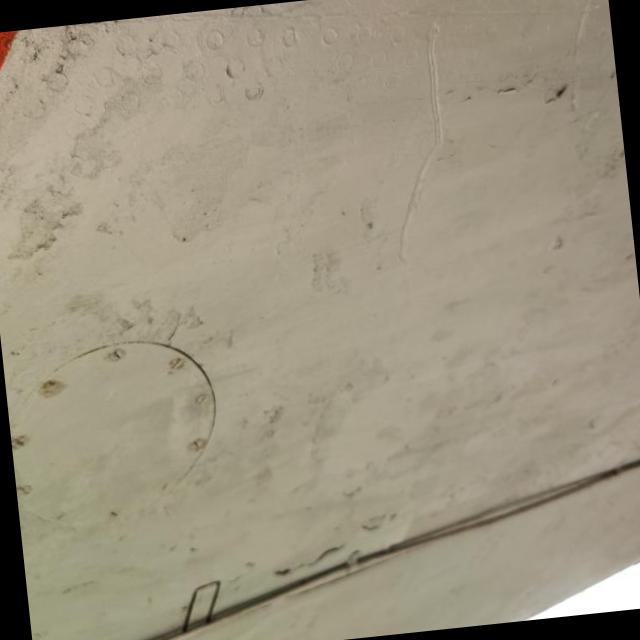Scratch: (399, 18, 446, 262)
